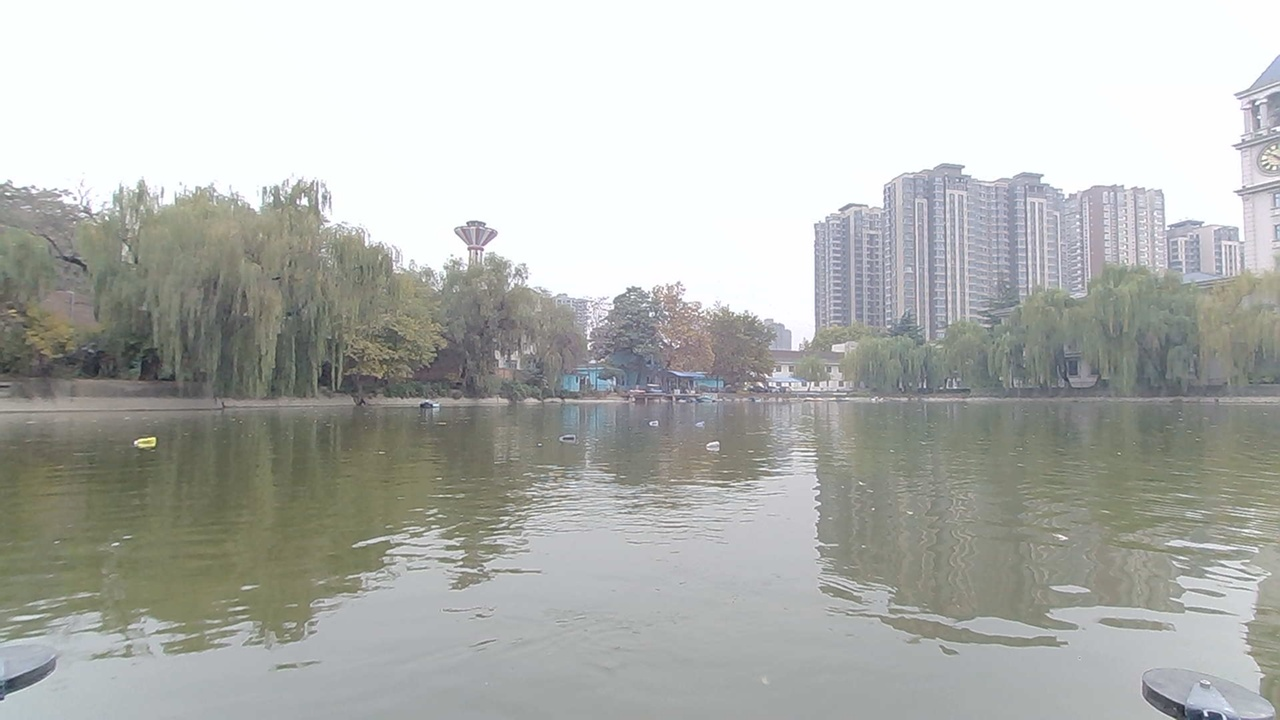bottle: (124, 424, 172, 456), (558, 424, 588, 446), (701, 432, 731, 453), (687, 406, 720, 423), (643, 410, 665, 429)
